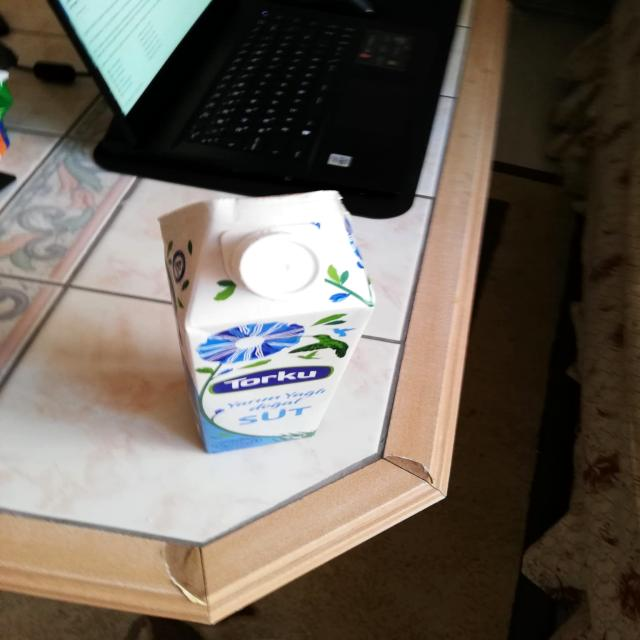milk: (133, 177, 386, 467)
